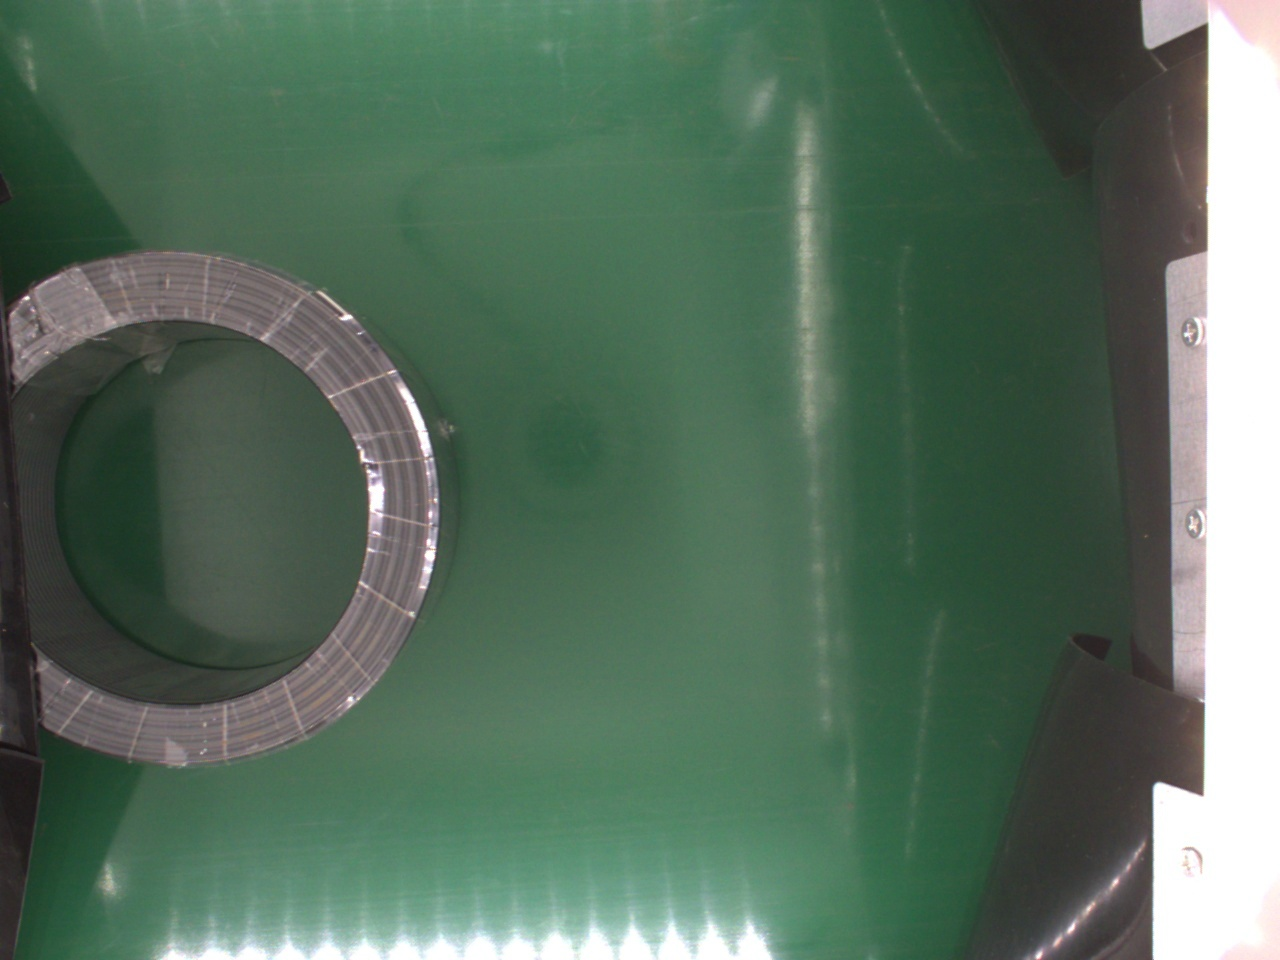black: (13, 243, 455, 772)
